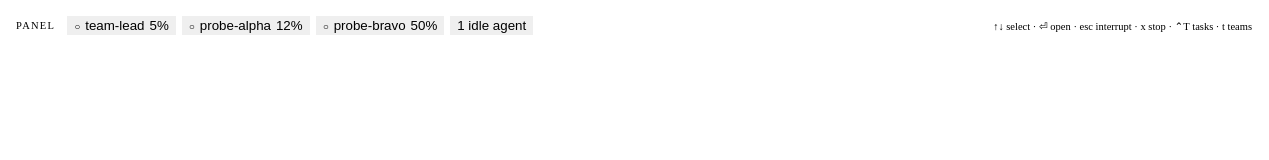
Test: collapses only the idle surplus into a dashed chip once more than three are idle
The width and height of the screenshot is (1269, 160).
Expected: the number of buttons with test id "agent-chip" is 3, [67,16,176,35]; [182,16,310,35]; [316,16,444,35]
Expected: the text "probe-charlie" is not shown
Click the button with test id "idle-chip" at (492,26), box [450,16,533,35]
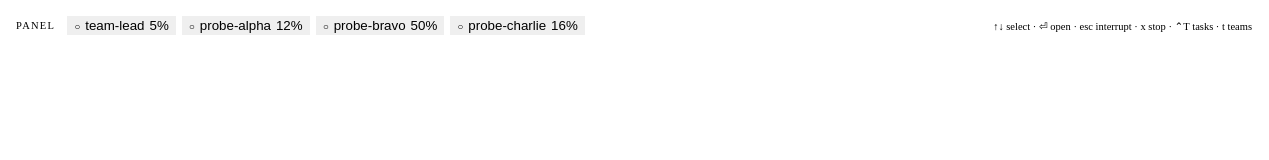
Expected: the number of buttons with test id "agent-chip" is 4, [67,16,176,35]; [182,16,310,35]; [316,16,444,35]; [450,16,585,35]
Expected: the button with test id "idle-chip" is gone
